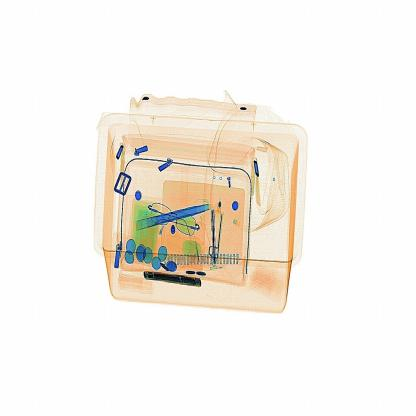knife: (204, 193, 226, 266)
